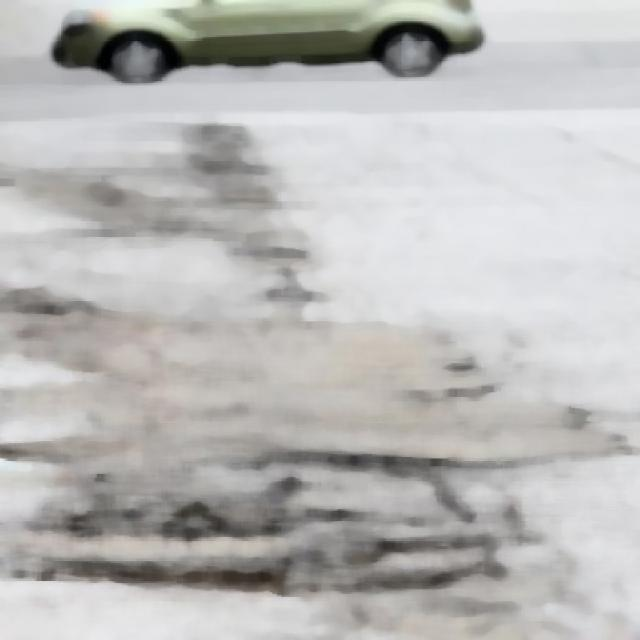Pothole: (73, 470, 452, 582), (226, 236, 311, 269), (234, 235, 278, 254), (272, 249, 323, 253)
